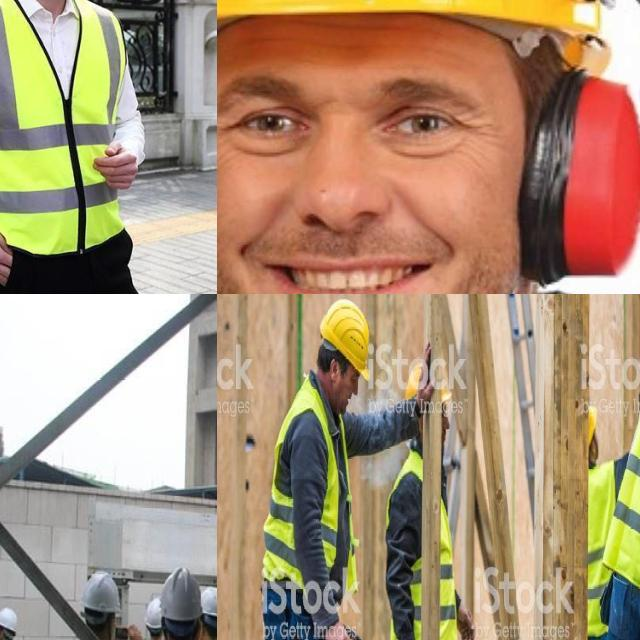Ear-protection: (217, 0, 640, 294)
No_Ear-Protection: (328, 353, 342, 384)
No_Glasses: (217, 57, 494, 166)
face_nomask: (328, 357, 361, 419)
hand_noglove: (86, 136, 140, 196), (0, 216, 17, 283), (319, 611, 354, 640), (456, 600, 478, 640)
head_helmet: (319, 294, 373, 381), (160, 567, 203, 625), (78, 572, 121, 610), (406, 360, 440, 395), (144, 600, 164, 630), (0, 604, 20, 632), (586, 406, 598, 449), (200, 588, 217, 616)
person: (0, 0, 146, 294), (280, 301, 356, 640), (385, 362, 464, 640), (581, 407, 614, 640), (131, 563, 217, 640), (62, 560, 140, 640), (0, 516, 46, 640), (138, 578, 170, 640), (0, 600, 39, 640)
vest: (0, 0, 134, 243), (270, 391, 352, 586), (387, 457, 460, 640), (587, 465, 608, 630)
